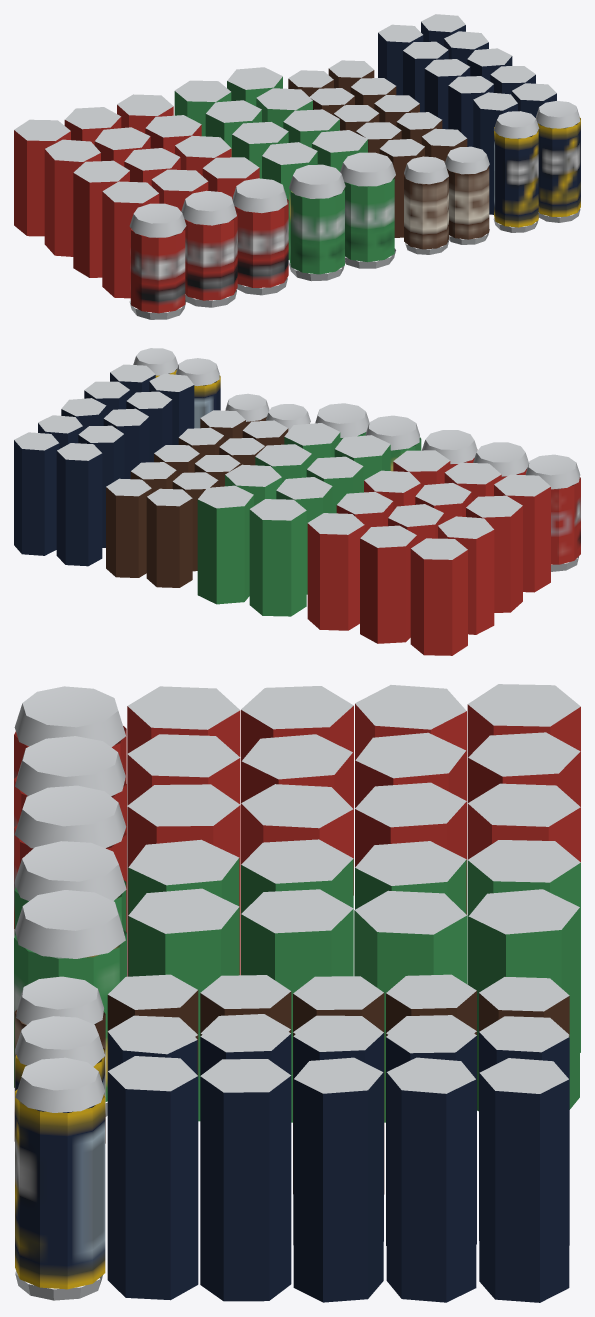
File: SC_Prod_Row_Cans_600.gltf
3 views of the same model, one above another, from view 1: azimuth 30°, elevation 25°; view 2: azimuth 150°, elevation 25°; view 3: azimuth 270°, elevation 25° (orthographic). The views are drawn at different scales.
Parts seen in each view (by area): view 1: SC_Prod_Row_Cans_600; view 2: SC_Prod_Row_Cans_600; view 3: SC_Prod_Row_Cans_600.
Boxes of the visible parts, x1,y1,x2,y2 form: SC_Prod_Row_Cans_600: [14, 14, 580, 319]; SC_Prod_Row_Cans_600: [14, 348, 580, 655]; SC_Prod_Row_Cans_600: [14, 684, 580, 1302].
Size of the model in its own units: 0.5915 by 0.134 by 0.3298.
Materials: 2 (2 with a texture image).
